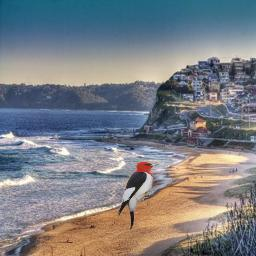Woodpecker: (117, 161, 160, 230)
